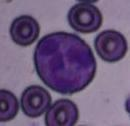E: (33, 31, 96, 94)
